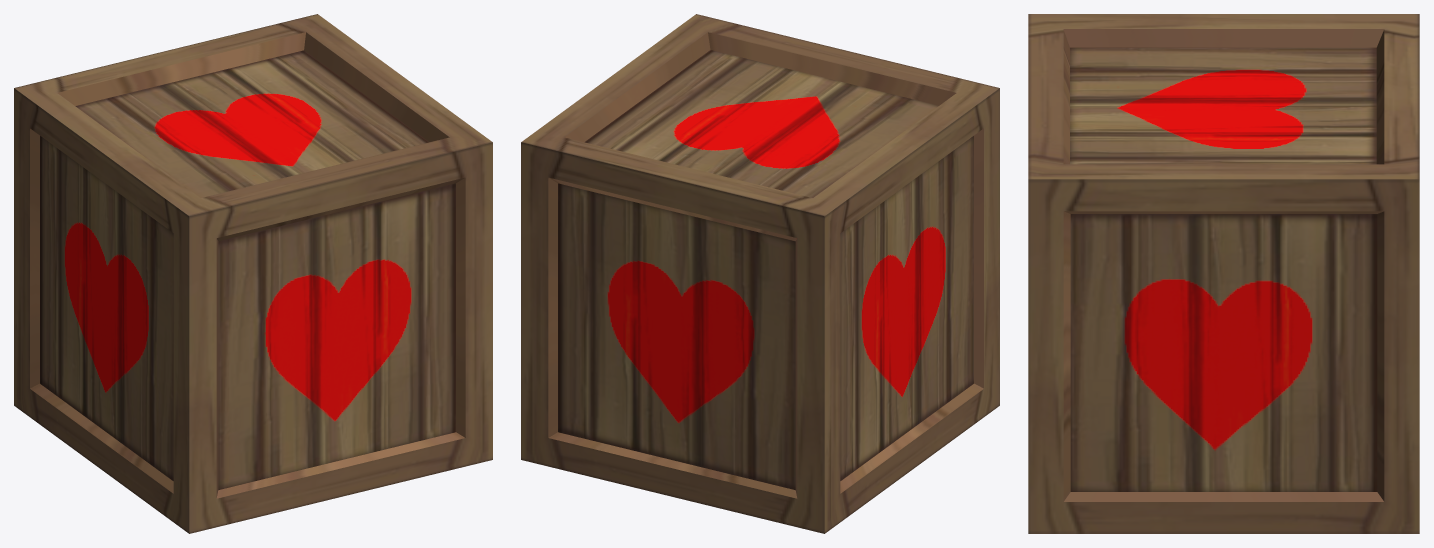
Rendered from CajaVida.fbx.
3 views of the same model, side by side, from view 1: azimuth 30°, elevation 25°; view 2: azimuth 150°, elevation 25°; view 3: azimuth 270°, elevation 25° (orthographic). The views are drawn at different scales.
Parts seen in each view (by area): view 1: Plane.002; view 2: Plane.002; view 3: Plane.002.
Part boxes in pixels (x1,y1,x2,y2): Plane.002: (14,14,492,533); Plane.002: (521,14,999,533); Plane.002: (1028,14,1419,533).
Bounding box in the file's own units: 98 × 98 × 98.
